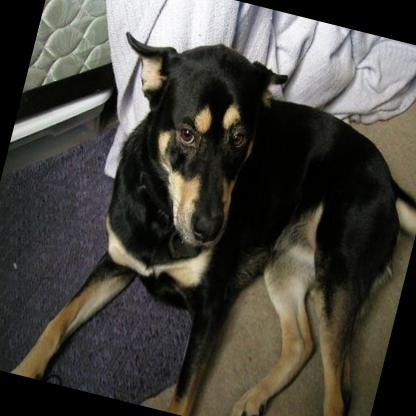kelpie: (3, 10, 416, 416)
